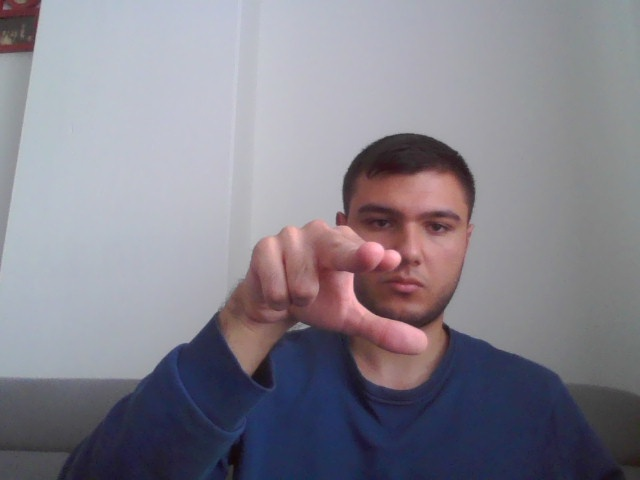no: (253, 221, 431, 356)
